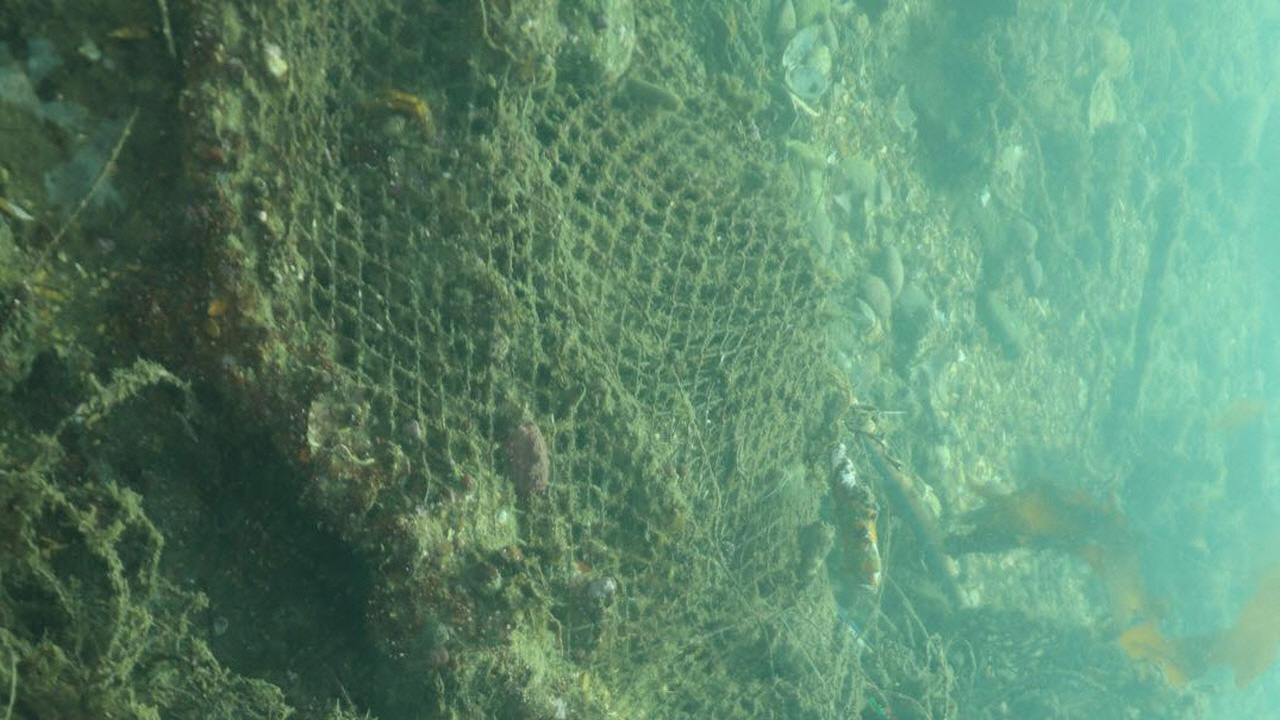fish net: (243, 0, 830, 720)
